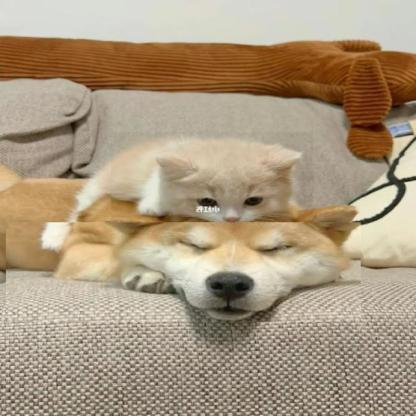cat: (111, 132, 313, 226)
dog: (6, 222, 361, 322)
